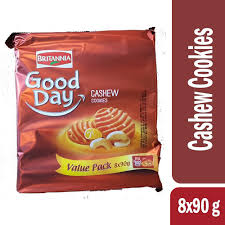gooday-large: (7, 30, 163, 193)
